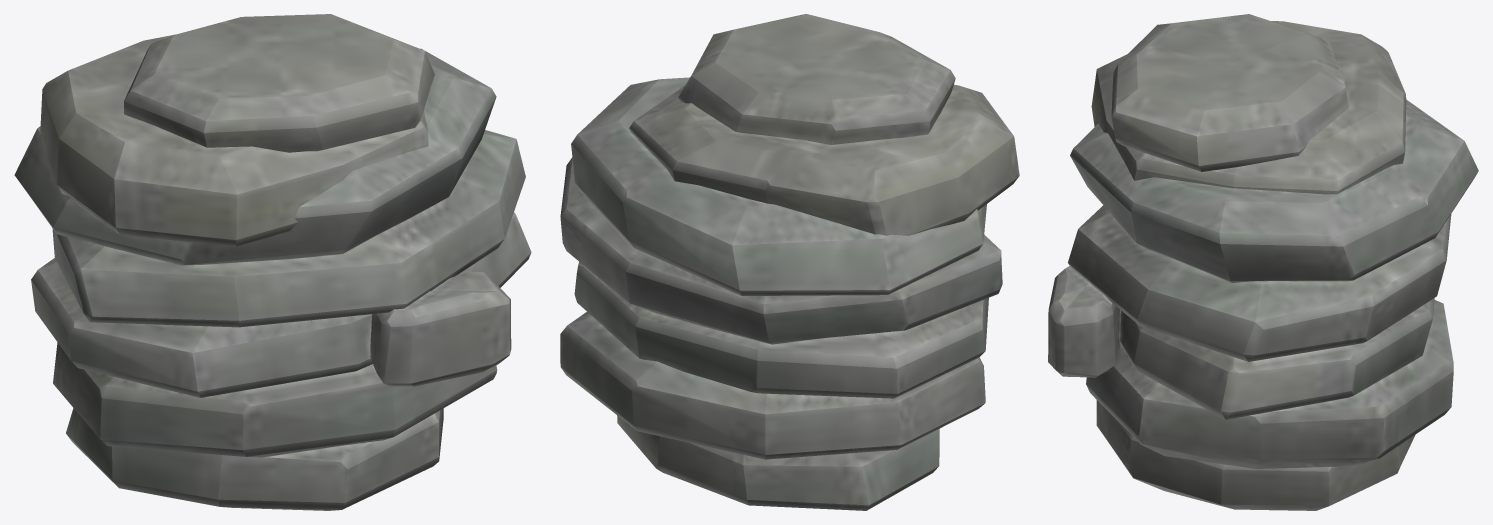
The model's file is sc_rock_2.glb.
3 renders of one model, left to right at view 1: azimuth 30°, elevation 25°; view 2: azimuth 150°, elevation 25°; view 3: azimuth 270°, elevation 25°, orthographic. The views are drawn at different scales.
Parts seen in each view (by area): view 1: 07 · Blocky stratified boulder; view 2: 07 · Blocky stratified boulder; view 3: 07 · Blocky stratified boulder.
Boxes of the visible parts, box(x1,y1,x2,y2) form: 07 · Blocky stratified boulder: box(14, 14, 531, 510); 07 · Blocky stratified boulder: box(560, 14, 1019, 510); 07 · Blocky stratified boulder: box(1048, 14, 1478, 510).
Bounding box in the file's own units: 2.77 × 2.43 × 2.43.
1 material, 1 textured.
